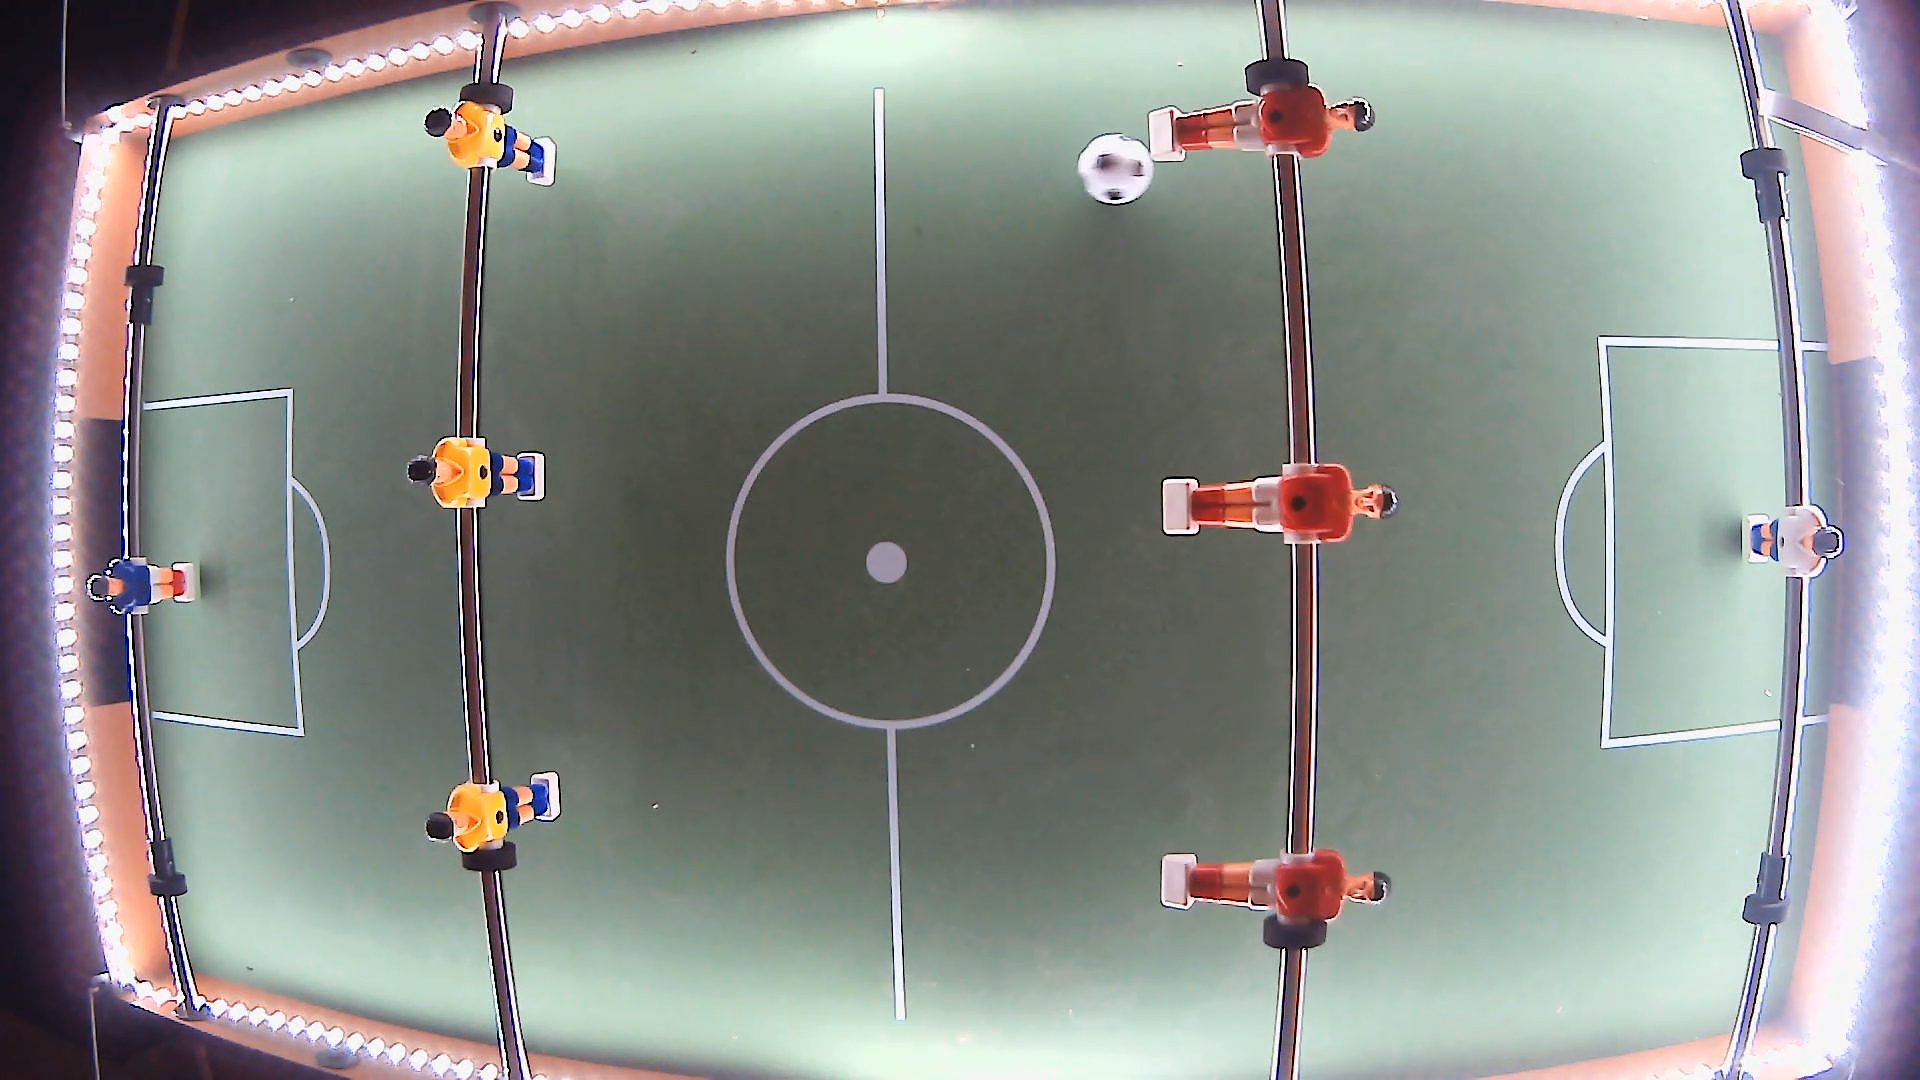Foosball: (1076, 132, 1153, 206)
